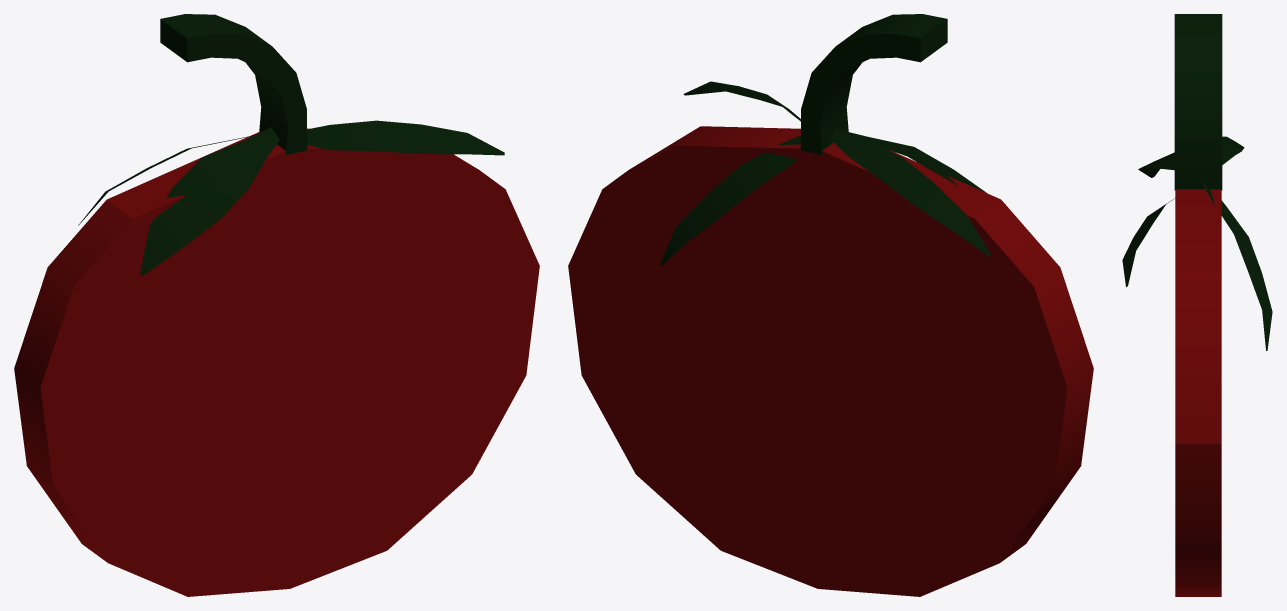
File: mesh_Tomato_v1_0.fbx
3 views of the same model, side by side, from view 1: azimuth 30°, elevation 25°; view 2: azimuth 150°, elevation 25°; view 3: azimuth 270°, elevation 25° (orthographic). The views are drawn at different scales.
Visible parts, largest first — view 1: mesh_Tomato_v1_0; view 2: mesh_Tomato_v1_0; view 3: mesh_Tomato_v1_0.
Boxes of the visible parts, left/top/right/bottom form: mesh_Tomato_v1_0: left=14, top=14, right=539, bottom=596; mesh_Tomato_v1_0: left=568, top=14, right=1093, bottom=596; mesh_Tomato_v1_0: left=1122, top=14, right=1272, bottom=596.
Size of the model in its own units: 0.6399 by 0.7048 by 0.1883.
